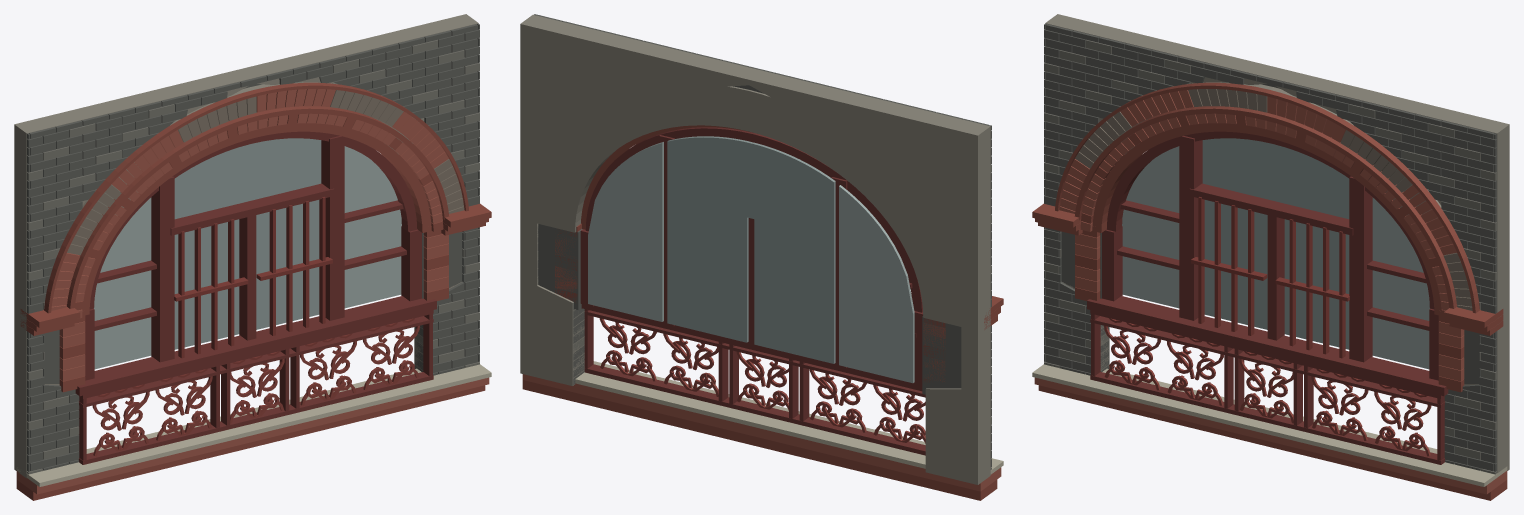
Rendered from hongkou-anglo-chinese-school-arched-window-raw.glb.
3 renders of one model, left to right at view 1: azimuth 30°, elevation 25°; view 2: azimuth 150°, elevation 25°; view 3: azimuth 330°, elevation 25°, orthographic.
Parts seen in each view (by area): view 1: 英华书馆双色砖券窗与镂花裙板; view 2: 英华书馆双色砖券窗与镂花裙板; view 3: 英华书馆双色砖券窗与镂花裙板.
Boxes of the visible parts, <box> form: 英华书馆双色砖券窗与镂花裙板: <box>14,14,491,500</box>; 英华书馆双色砖券窗与镂花裙板: <box>520,14,1003,500</box>; 英华书馆双色砖券窗与镂花裙板: <box>1032,14,1509,500</box>.
Size of the model in its own units: 4.1 by 3.14 by 0.4.
